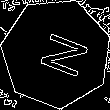N_W: (25, 25, 87, 81)
